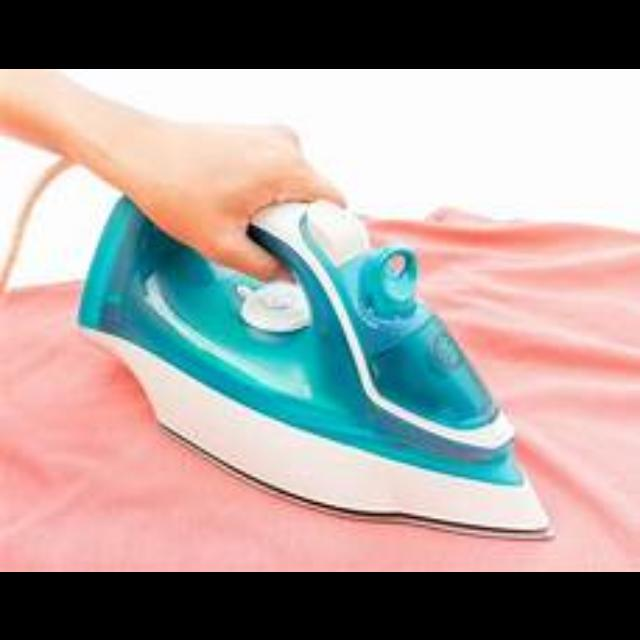Clothes-Iron: (72, 166, 582, 548)
